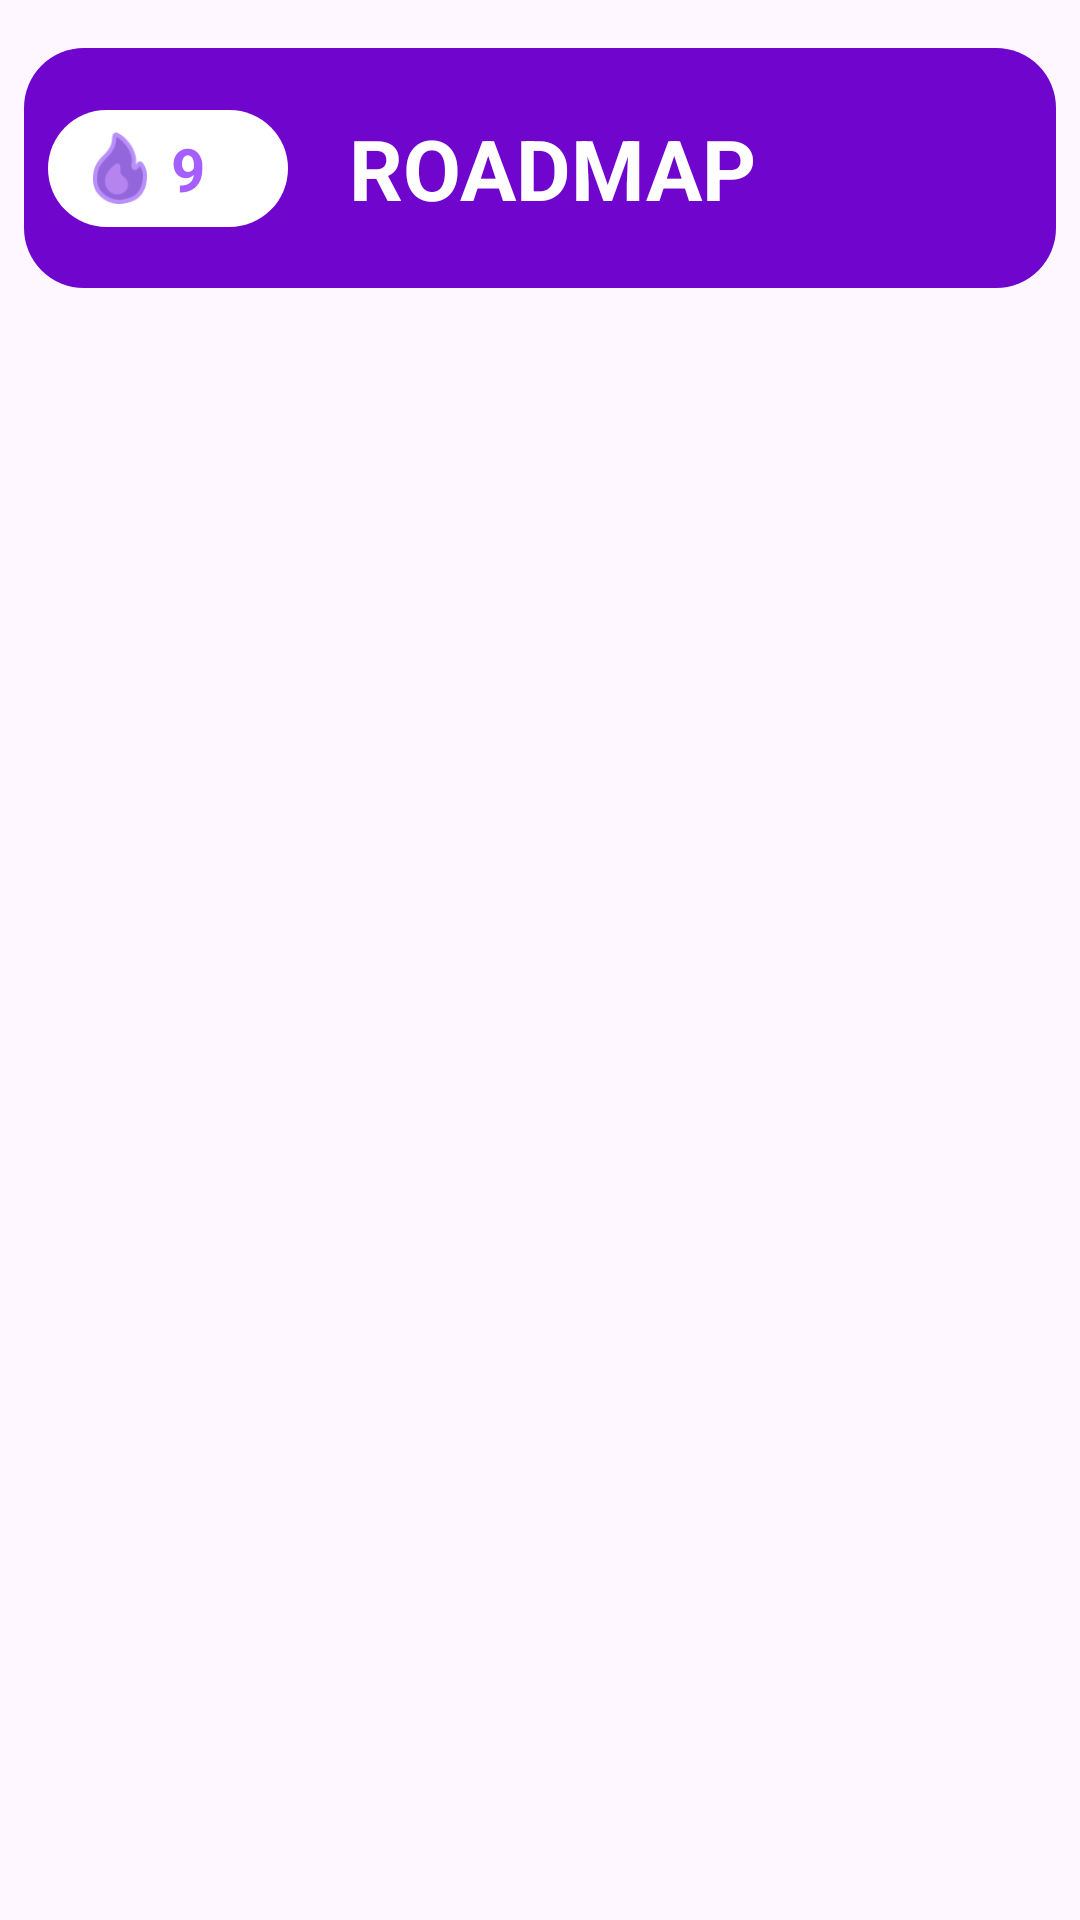

Screen size 1080*1920. Icon name, then its center in pixels as [x,y]:
rmap streak: [120,168]
